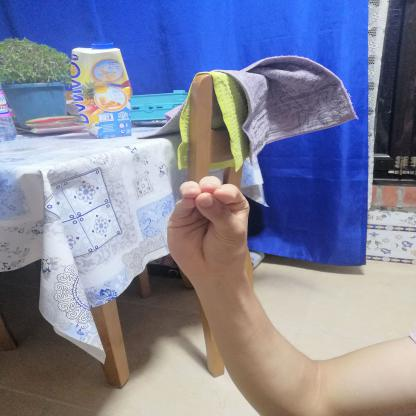HA: (152, 168, 264, 288)
